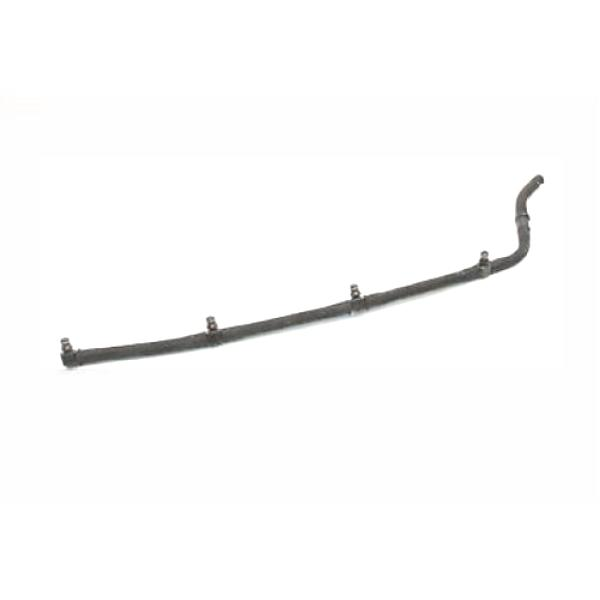no leak: (39, 157, 563, 369)
